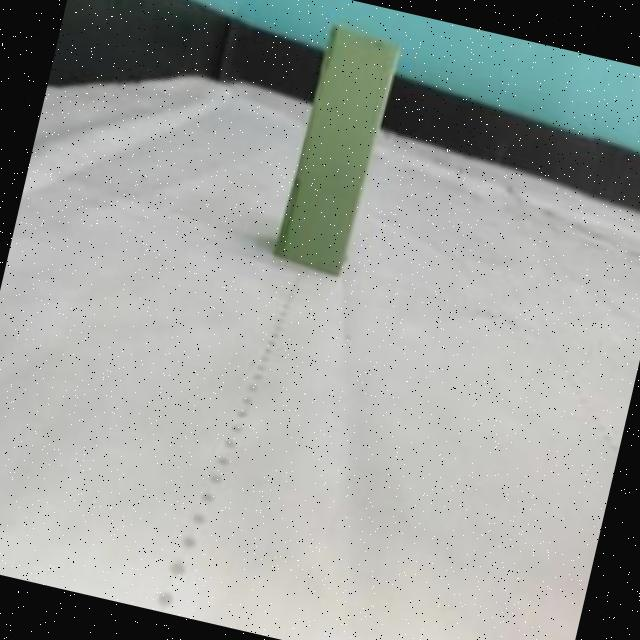greenbox: (270, 17, 406, 277)
